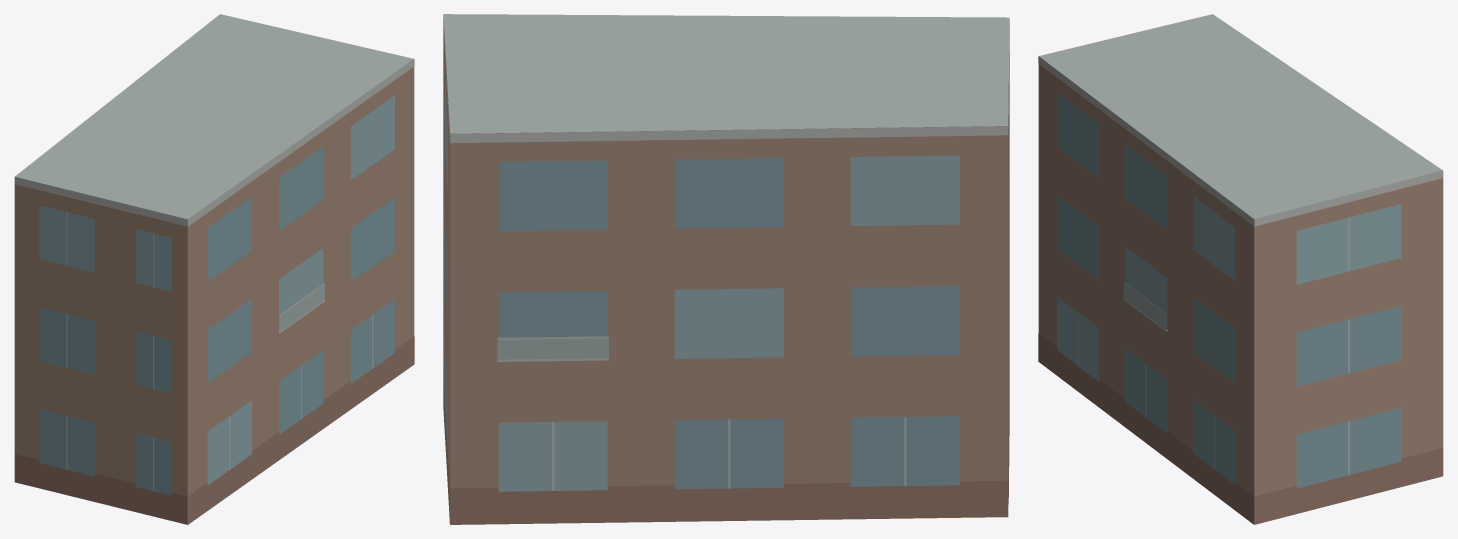
The model's file is survey-upis-32665690.glb.
The picture shows the model from 3 angles, left to right: view 1: azimuth 30°, elevation 25°; view 2: azimuth 150°, elevation 25°; view 3: azimuth 270°, elevation 25°; orthographic projection. The views are drawn at different scales.
Visible parts, largest first — view 1: survey-upis-32665690.tmp; view 2: survey-upis-32665690.tmp; view 3: survey-upis-32665690.tmp.
Part boxes in pixels (box(x1,y1,x2,y2)): survey-upis-32665690.tmp: box(14, 14, 414, 524); survey-upis-32665690.tmp: box(443, 14, 1009, 524); survey-upis-32665690.tmp: box(1038, 14, 1443, 524).
Size of the model in its own units: 14.56 by 10.1 by 12.13.
